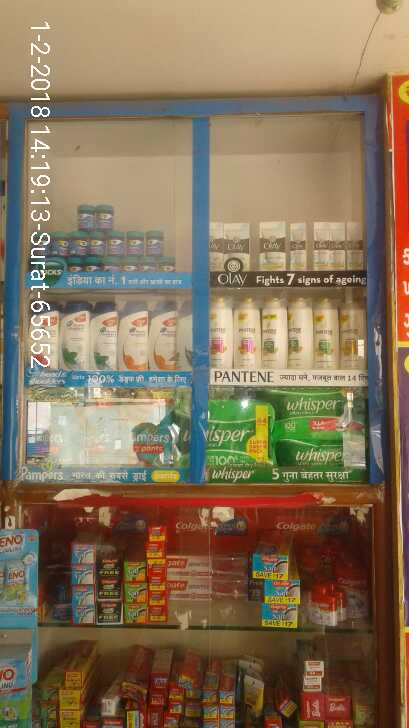beauty: (308, 222, 365, 271), (90, 297, 122, 379), (149, 300, 185, 369), (27, 294, 60, 367), (230, 295, 259, 374), (258, 297, 287, 376), (285, 295, 314, 374), (312, 291, 341, 370), (338, 291, 367, 370), (119, 297, 149, 370), (206, 295, 232, 377), (63, 299, 91, 368), (256, 224, 291, 273), (222, 224, 250, 272), (284, 221, 306, 269)
pharmacy: (24, 204, 190, 277), (273, 382, 378, 471), (202, 403, 273, 465)
